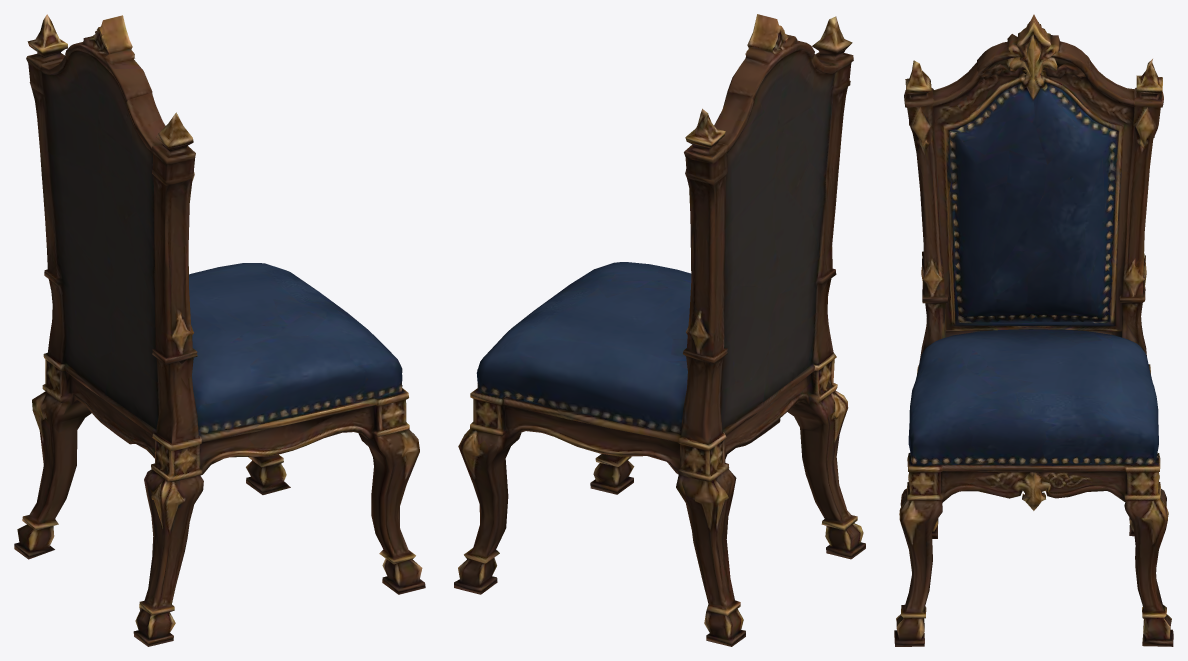
The model's file is chair.glb.
3 views of the same model, side by side, from view 1: azimuth 30°, elevation 25°; view 2: azimuth 150°, elevation 25°; view 3: azimuth 270°, elevation 25° (orthographic). The views are drawn at different scales.
Parts seen in each view (by area): view 1: tripo_node_97954528-4052-4565-af23-aec598dc1bf3; view 2: tripo_node_97954528-4052-4565-af23-aec598dc1bf3; view 3: tripo_node_97954528-4052-4565-af23-aec598dc1bf3.
Part boxes in pixels (x1,y1,x2,y2): tripo_node_97954528-4052-4565-af23-aec598dc1bf3: [14, 14, 425, 646]; tripo_node_97954528-4052-4565-af23-aec598dc1bf3: [454, 14, 865, 646]; tripo_node_97954528-4052-4565-af23-aec598dc1bf3: [894, 14, 1173, 646].
Size of the model in its own units: 0.4823 by 0.9812 by 0.4745.
1 material, 1 textured.
